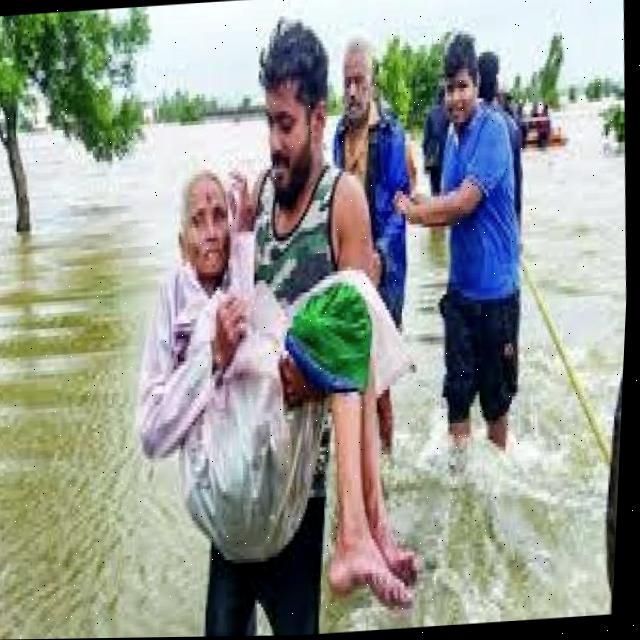civilian: (141, 162, 451, 616), (193, 20, 400, 637), (408, 32, 555, 457), (303, 24, 440, 471)
